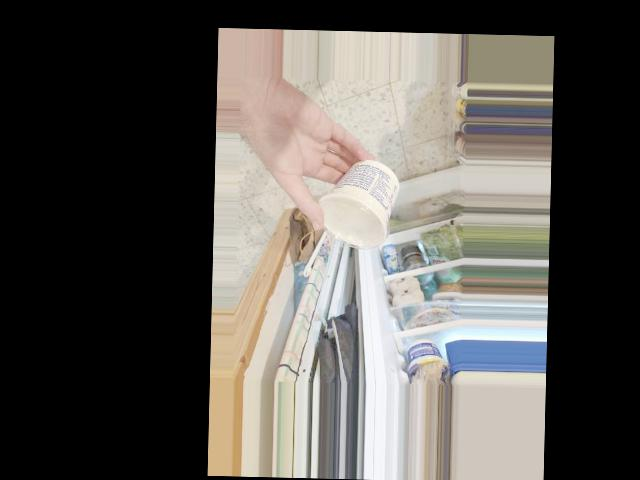cotage: (326, 161, 396, 248)
